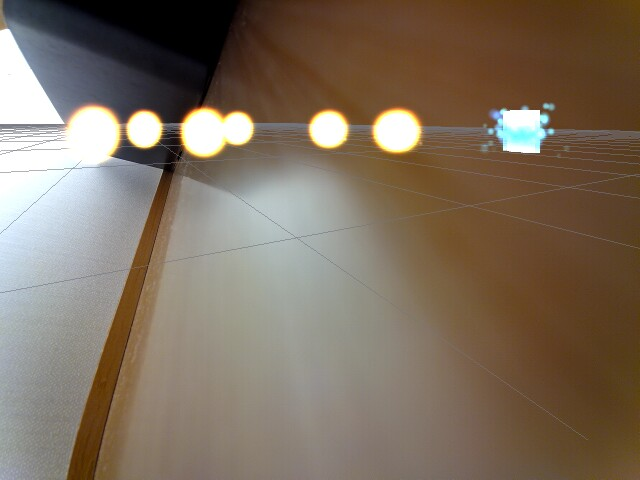firebig: (60, 101, 124, 170)
